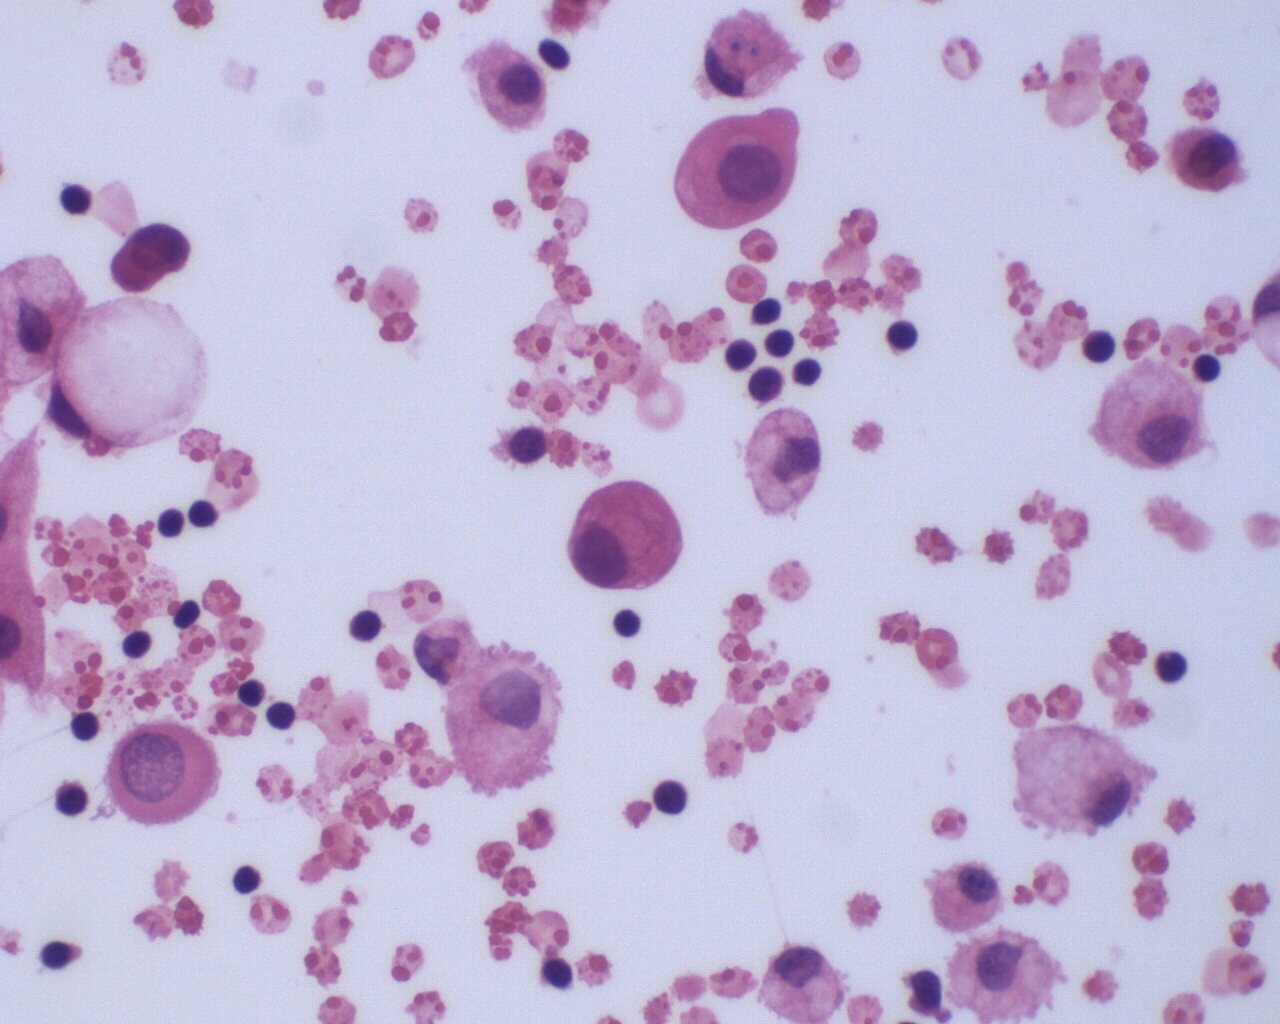ab: (106, 718, 226, 828), (1165, 121, 1255, 201), (110, 222, 190, 298)
histo: (44, 297, 209, 452), (1010, 719, 1150, 839), (1094, 357, 1202, 476), (949, 926, 1063, 1020), (739, 398, 823, 522), (757, 939, 851, 1024), (928, 857, 1007, 935)
lymph: (348, 605, 389, 651), (885, 313, 926, 358), (54, 773, 93, 820), (651, 776, 694, 817), (153, 501, 187, 543), (70, 707, 107, 747), (719, 335, 759, 372), (230, 858, 264, 900), (119, 626, 156, 664), (789, 349, 822, 389), (265, 697, 297, 734)
meso: (672, 96, 806, 233), (566, 472, 682, 597)
